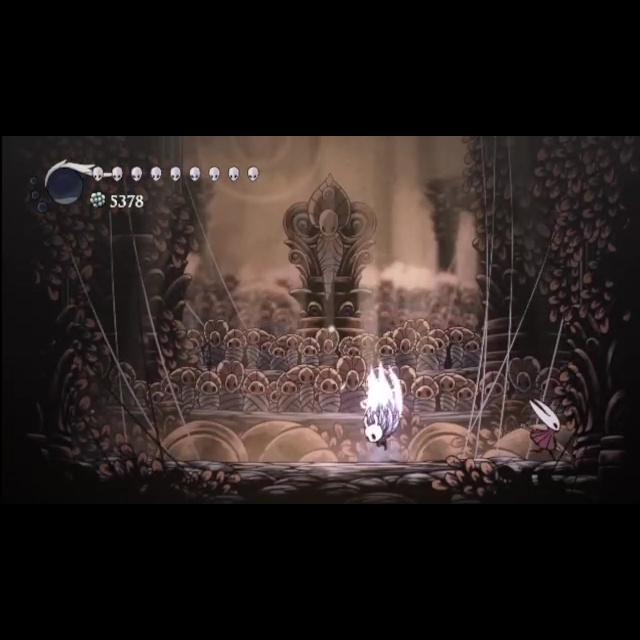Enemy: (516, 396, 568, 462)
Player: (361, 404, 404, 452)
